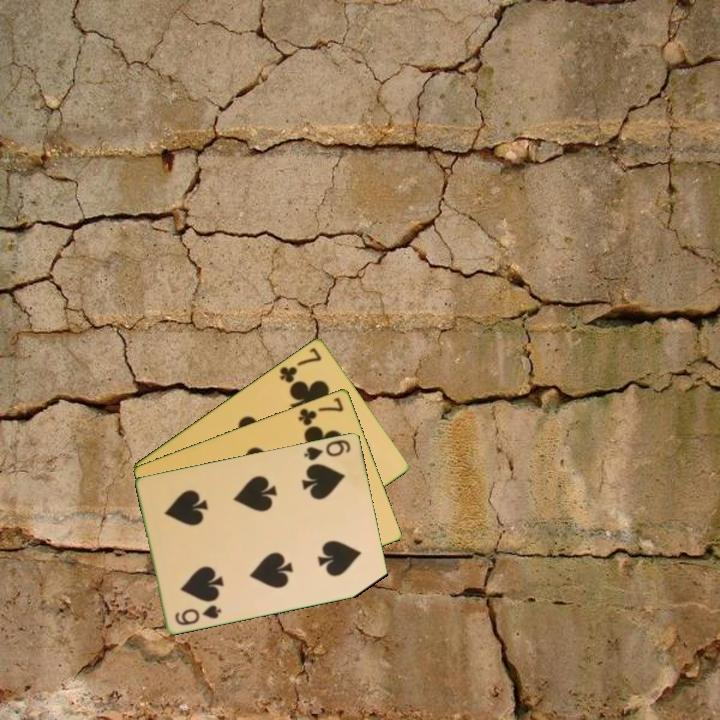6s: (301, 436, 354, 463), (171, 601, 224, 628)
7c: (276, 343, 325, 386), (295, 394, 347, 428)
